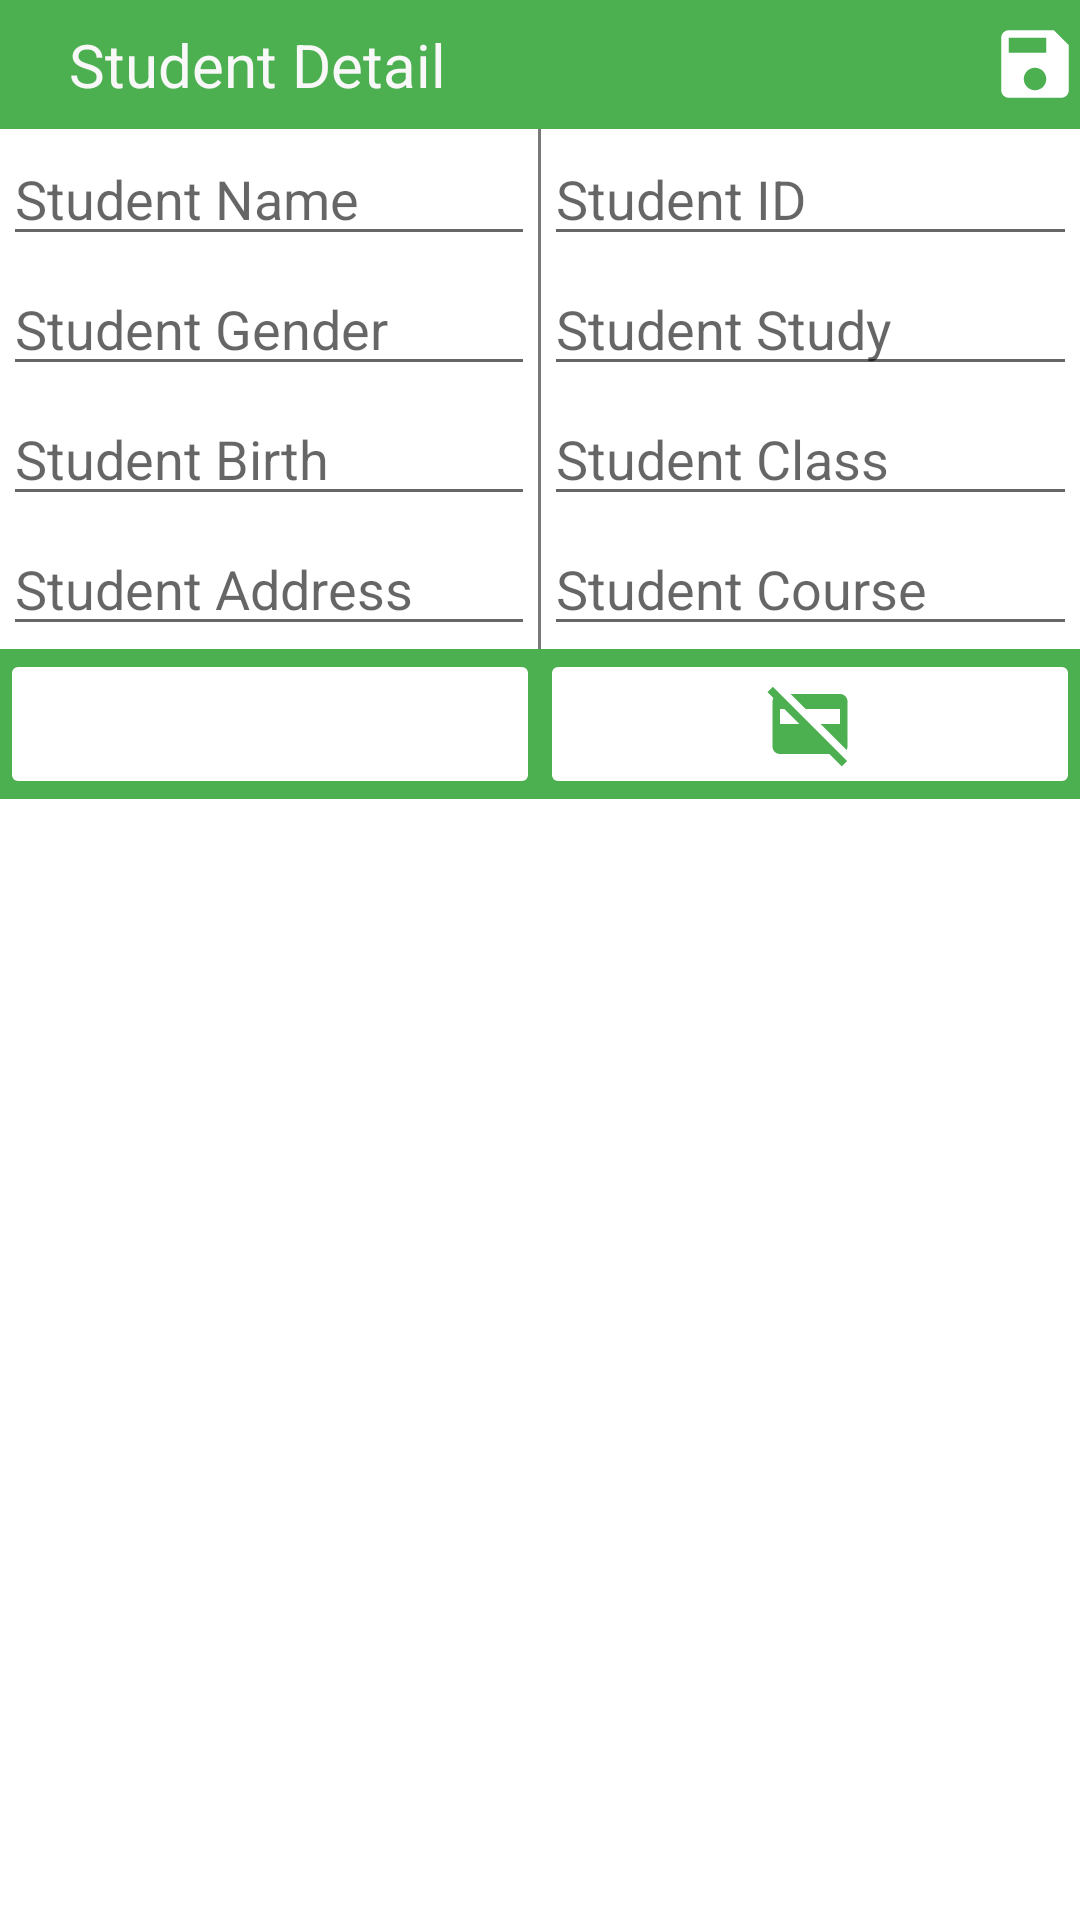

Locate icon controls on the screen. Image size 1080*1920, boxes as (left=x1, top=y1, right=x2, bottom=y2).
save: (left=1001, top=30, right=1069, bottom=98)
